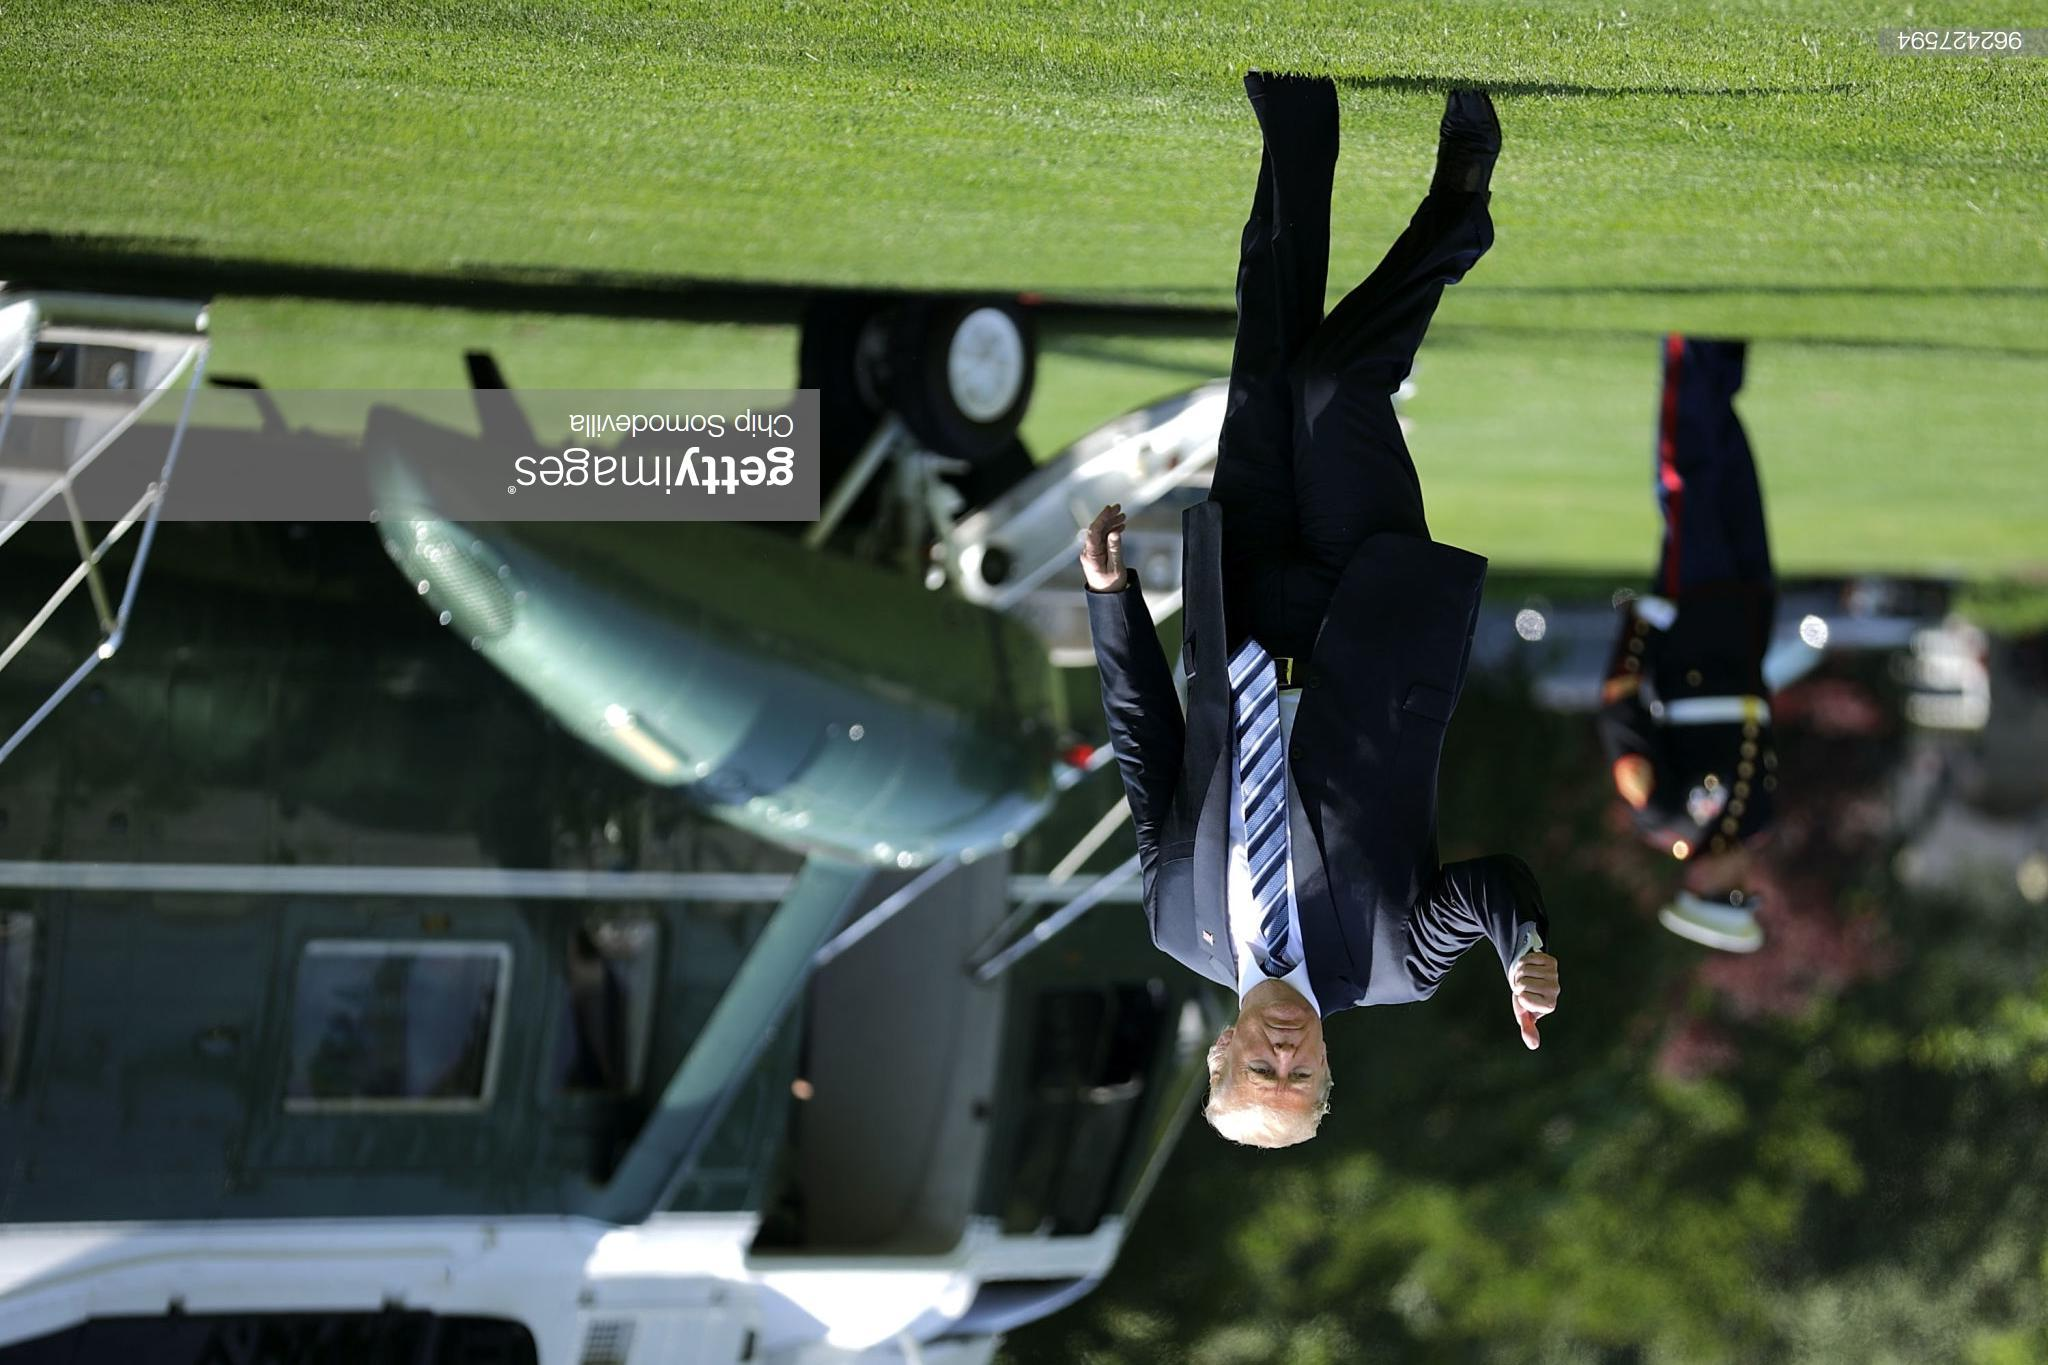thumbsdown: (1517, 954, 1561, 1053)
